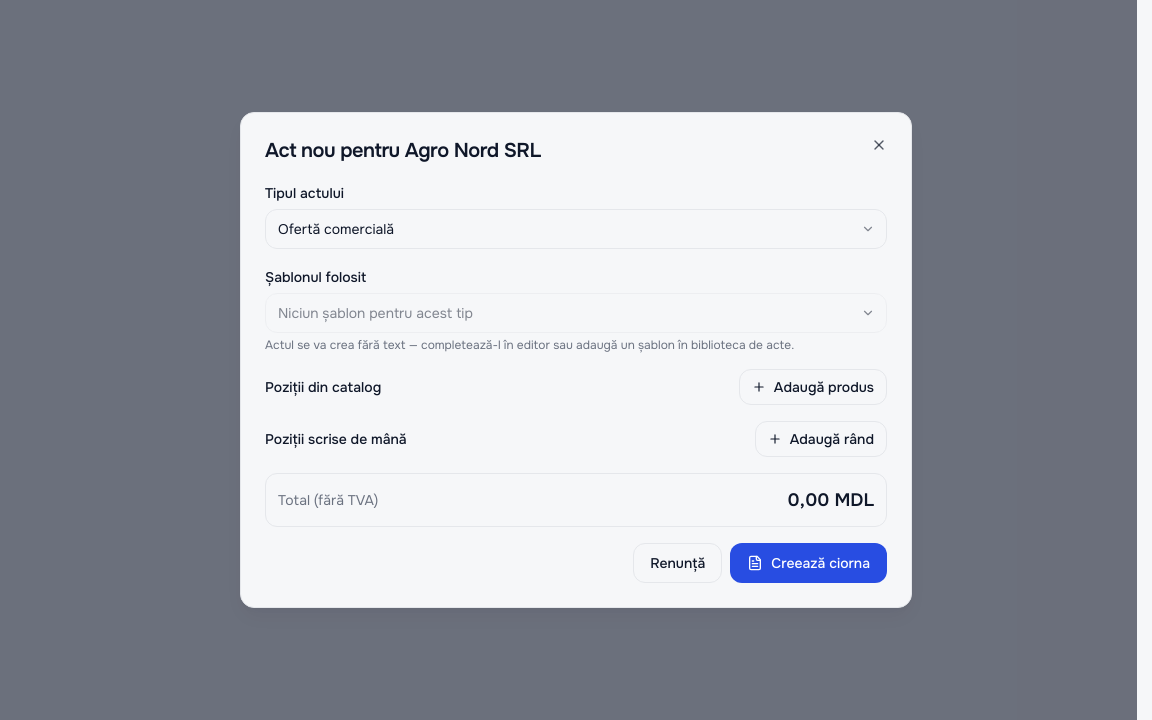
Act nou dintr-un lead › un preț negociat scris de om învinge prețul din catalog, și la total
This screenshot has width=1152, height=720.
Click the button "Adaugă produs". click: [813, 387]
box: [739, 369, 887, 405]
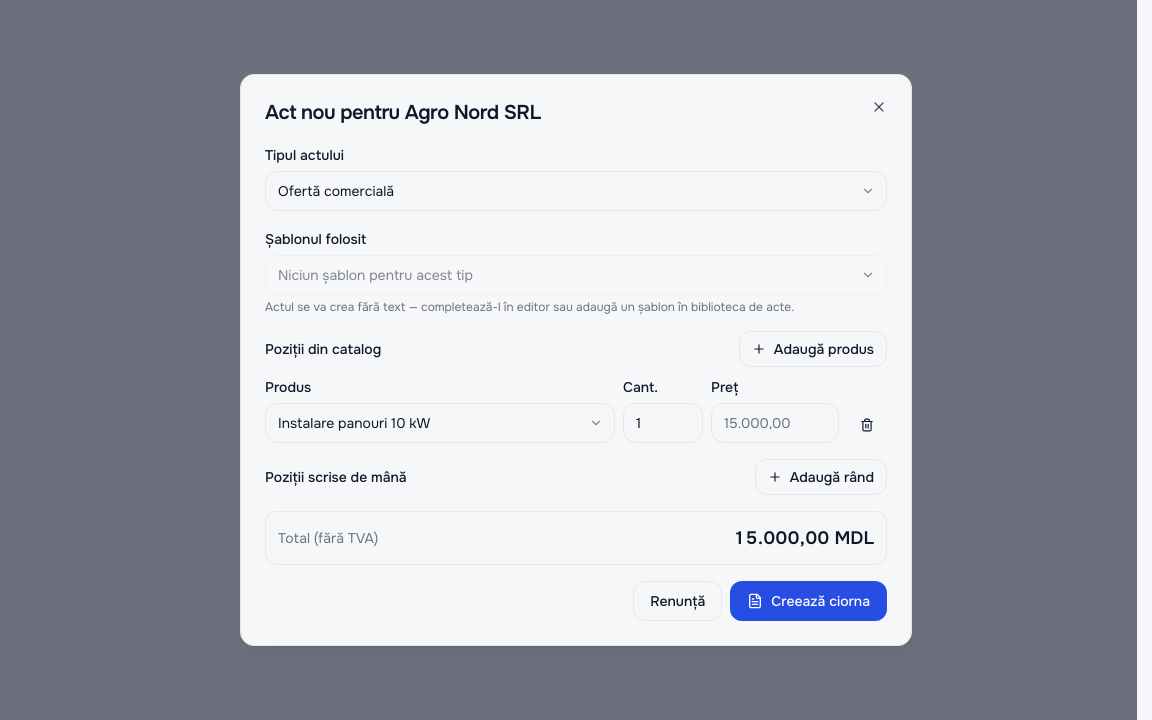
Type "12500,50" into the field labelled "Preț". click: [775, 423]
box: [711, 403, 839, 443]
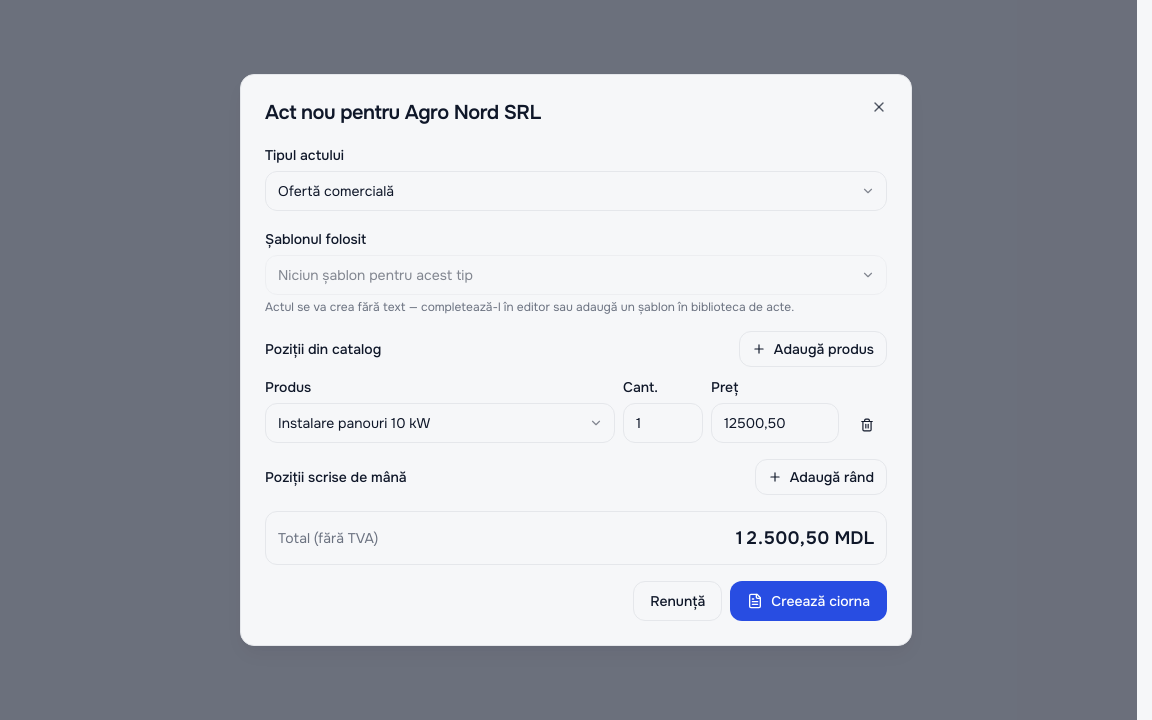
expect the text "12.500,50 MDL" is shown: met, box [734, 524, 874, 552]
